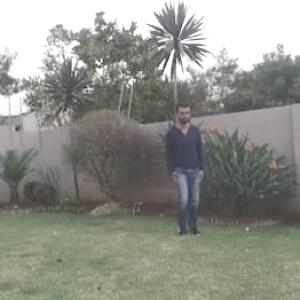follow: (165, 98, 207, 241)
